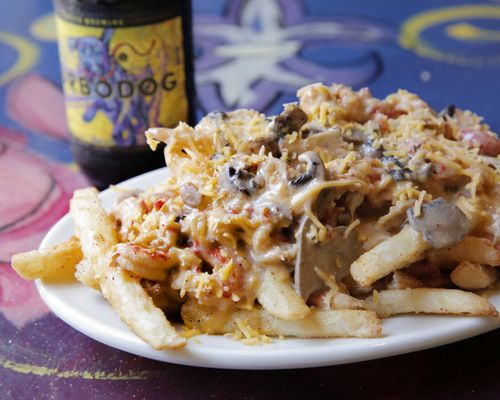pizza: (51, 1, 196, 188)
